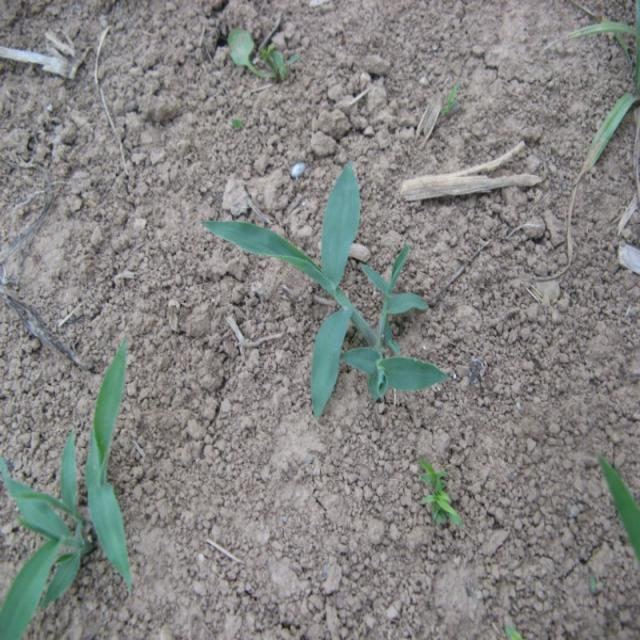bg: (201, 154, 457, 428)
